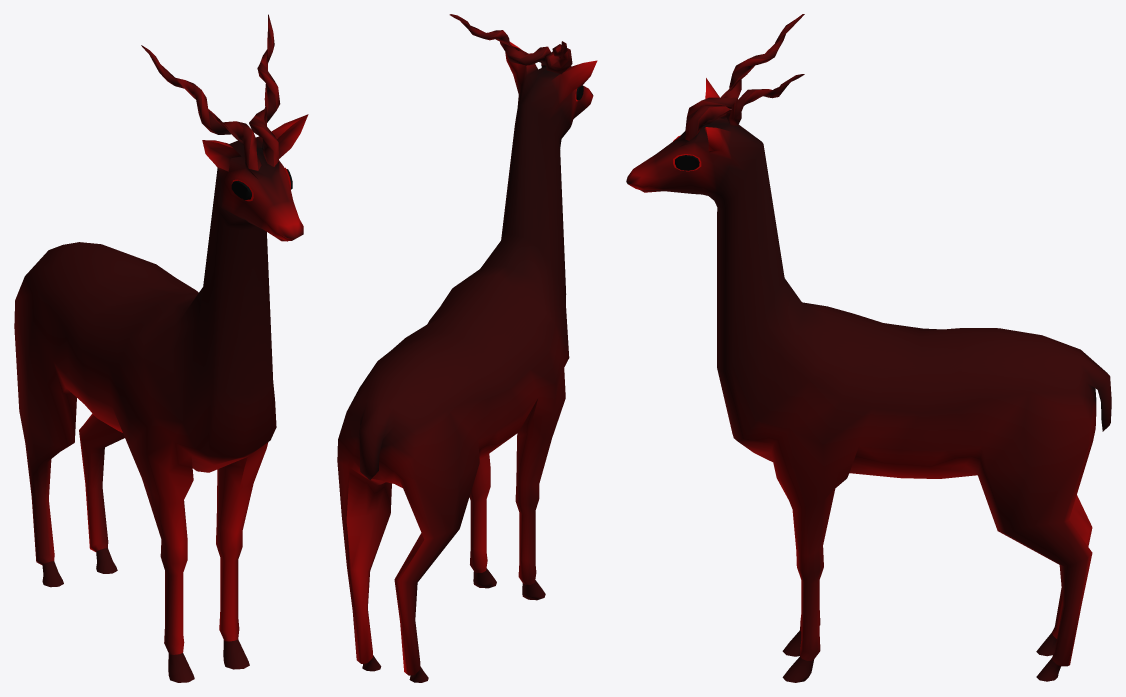
Rendered from Imaginary_Entraine.fbx.
The picture shows the model from 3 angles, left to right: view 1: azimuth 30°, elevation 25°; view 2: azimuth 150°, elevation 25°; view 3: azimuth 270°, elevation 25°; orthographic projection. The views are drawn at different scales.
Parts seen in each view (by area): view 1: base; view 2: base; view 3: base.
Part boxes in pixels (x1,y1,x2,y2): base: (14,14,308,682); base: (337,14,597,682); base: (626,14,1111,682).
Bounding box in the file's own units: 49.59 × 221 × 157.
